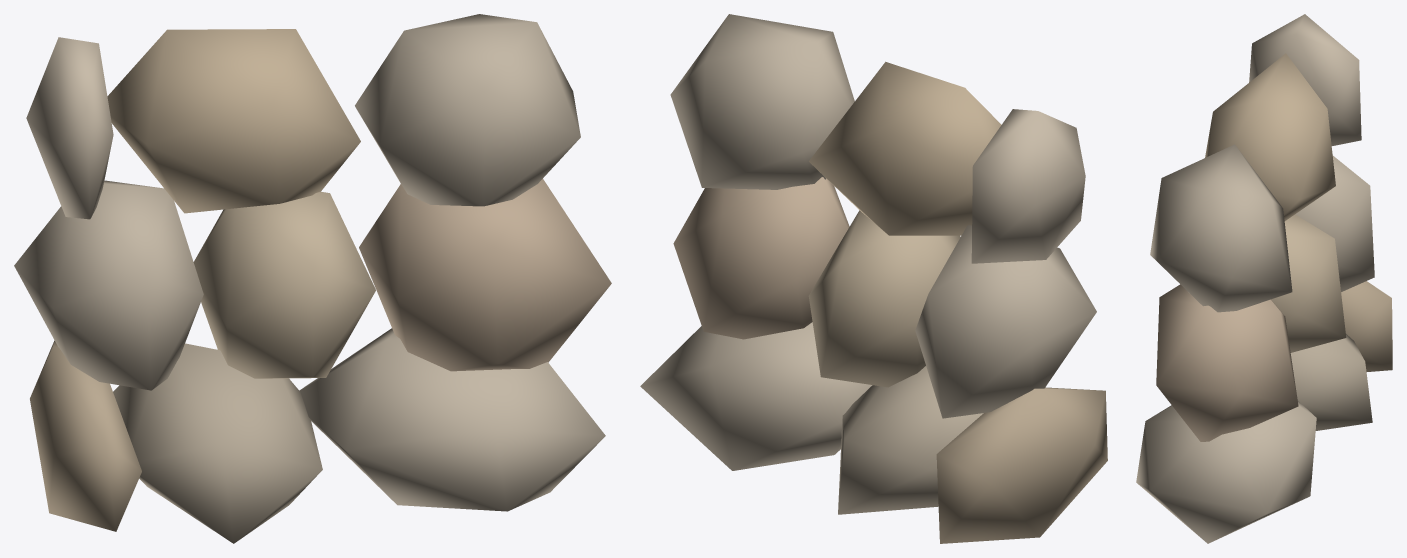
The model's file is farm_-20_-31_near.glb.
3 renders of one model, left to right at view 1: azimuth 30°, elevation 25°; view 2: azimuth 150°, elevation 25°; view 3: azimuth 270°, elevation 25°, orthographic. The views are drawn at different scales.
Visible parts, largest first — view 1: geometry_0; view 2: geometry_0; view 3: geometry_0.
Part boxes in pixels (bbox=[...]): geometry_0: bbox=[14, 14, 611, 543]; geometry_0: bbox=[640, 14, 1107, 543]; geometry_0: bbox=[1136, 14, 1392, 543].
Bounding box in the file's own units: 1.64 × 1.56 × 0.9656.
